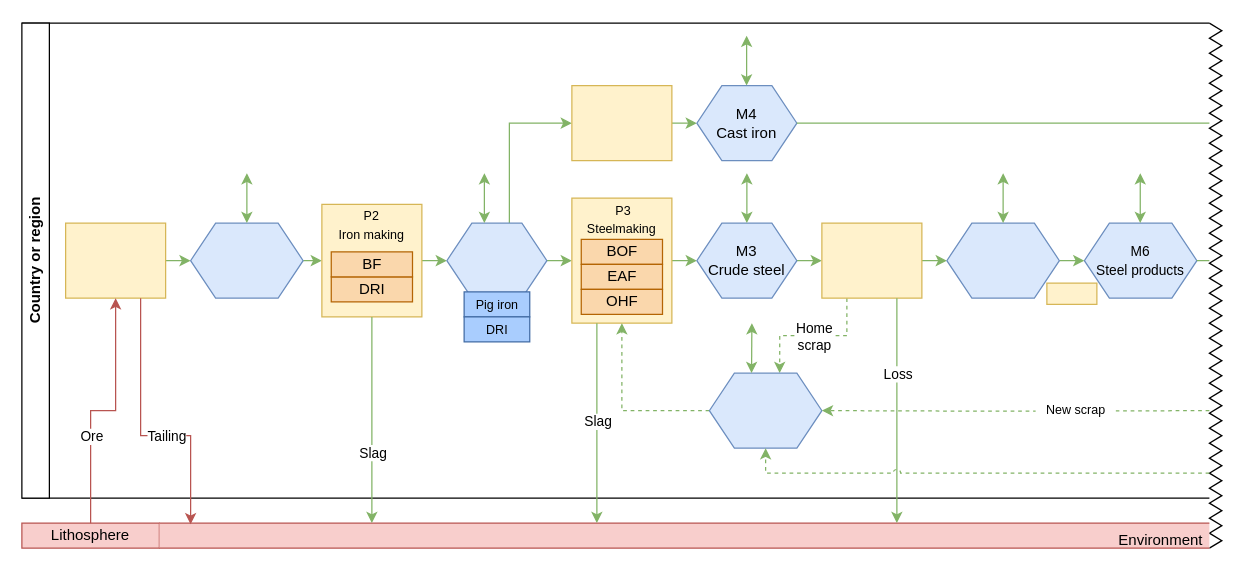
Image size: 1245x571. Some labels were removed from this diagram. The shapes that lost their labels are listed below. From the top down, each one's centre as x and y in pixels, then its label:
point (621, 122): P4 Iron foundry
point (115, 260): P1 Mining
point (246, 260): M1 Iron ore / Iron concentrate
point (496, 260): M2 Pig iron & Direct reduced iron
point (871, 260): P5 Forming
point (1002, 260): M5 Finished steel
point (1071, 293): VP1
point (765, 410): M9 Scrap
